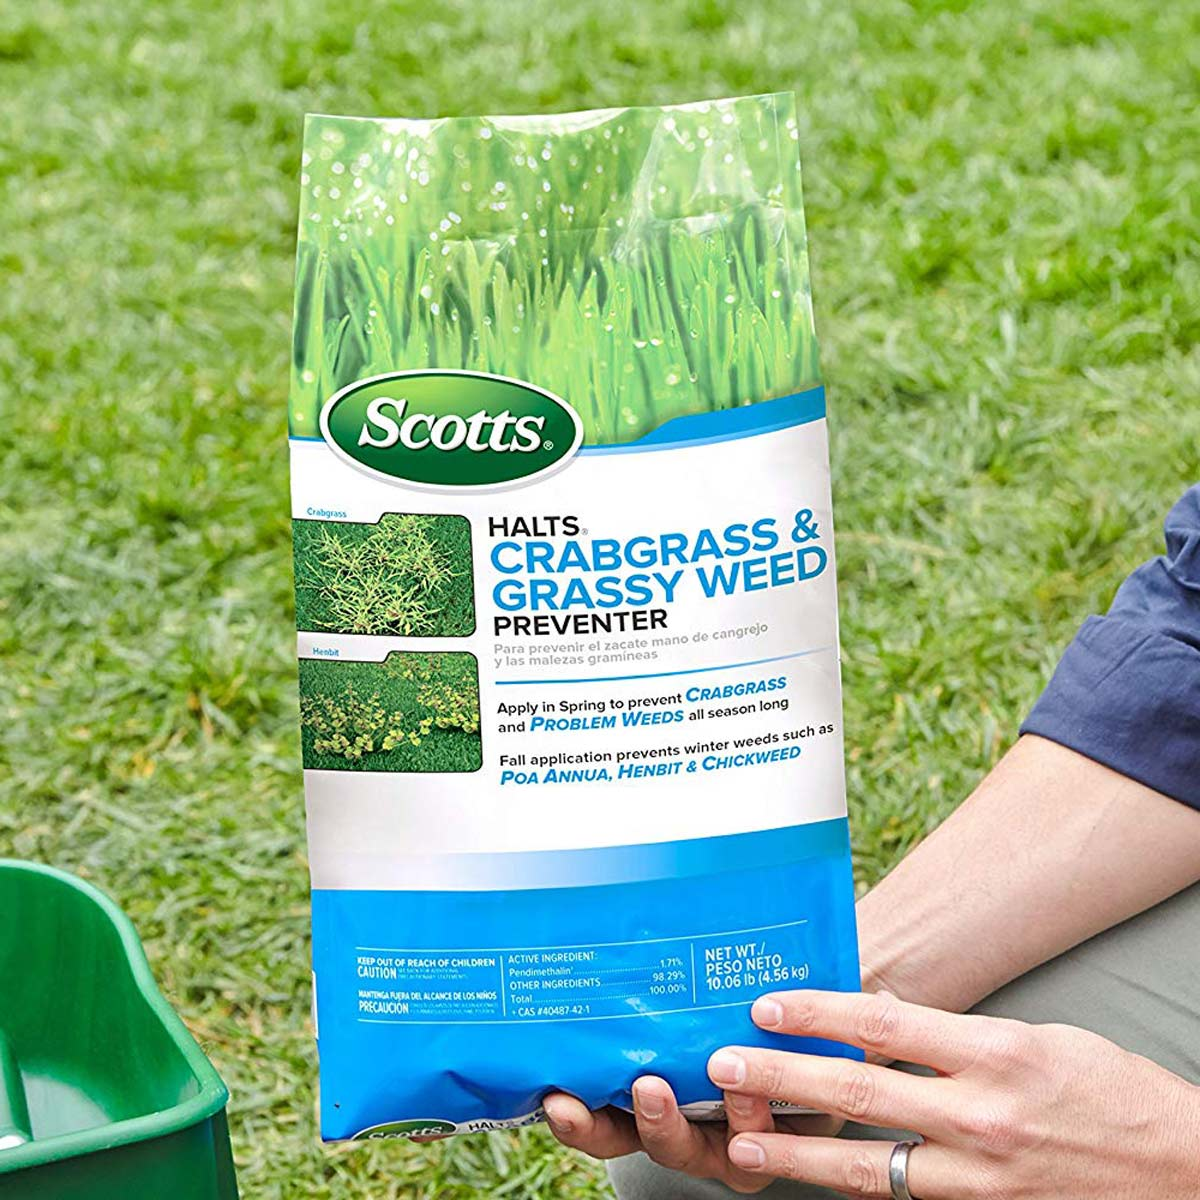crabgrass: (300, 516, 462, 633)
